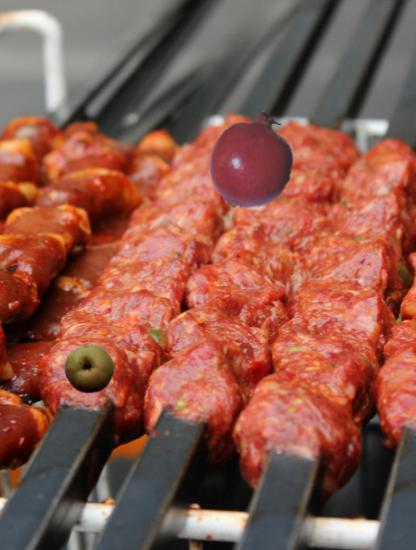Pear: (64, 343, 116, 395)
Pomegranate: (201, 109, 305, 213)
